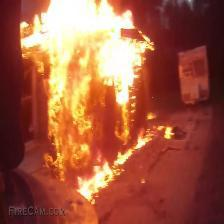fire: (0, 0, 190, 201)
